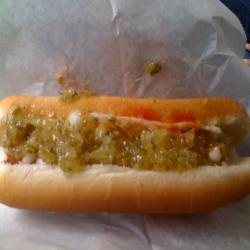hotdog: (1, 83, 245, 220)
